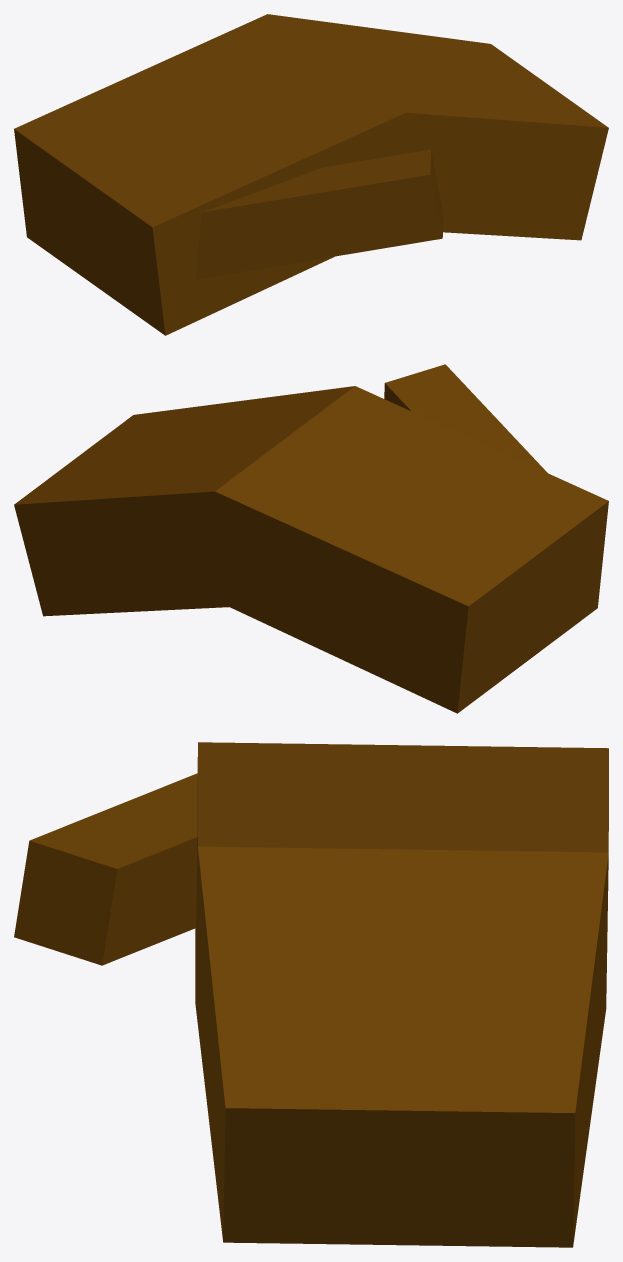
3 views of the same model, one above another, from view 1: azimuth 30°, elevation 25°; view 2: azimuth 150°, elevation 25°; view 3: azimuth 270°, elevation 25° (orthographic). The views are drawn at different scales.
Parts seen in each view (by area): view 1: 右5; view 2: 右5; view 3: 右5.
Boxes of the visible parts, x1=… form: 右5: x1=14, y1=14, x2=608, y2=335; 右5: x1=14, y1=364, x2=608, y2=713; 右5: x1=14, y1=742, x2=608, y2=1247.
Bounding box in the file's own units: 20.07 × 7.48 × 15.04.
